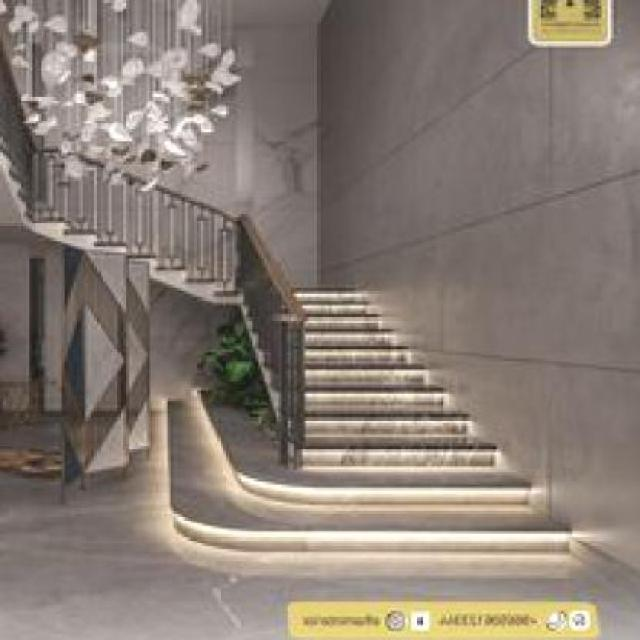stair: (202, 240, 518, 485)
